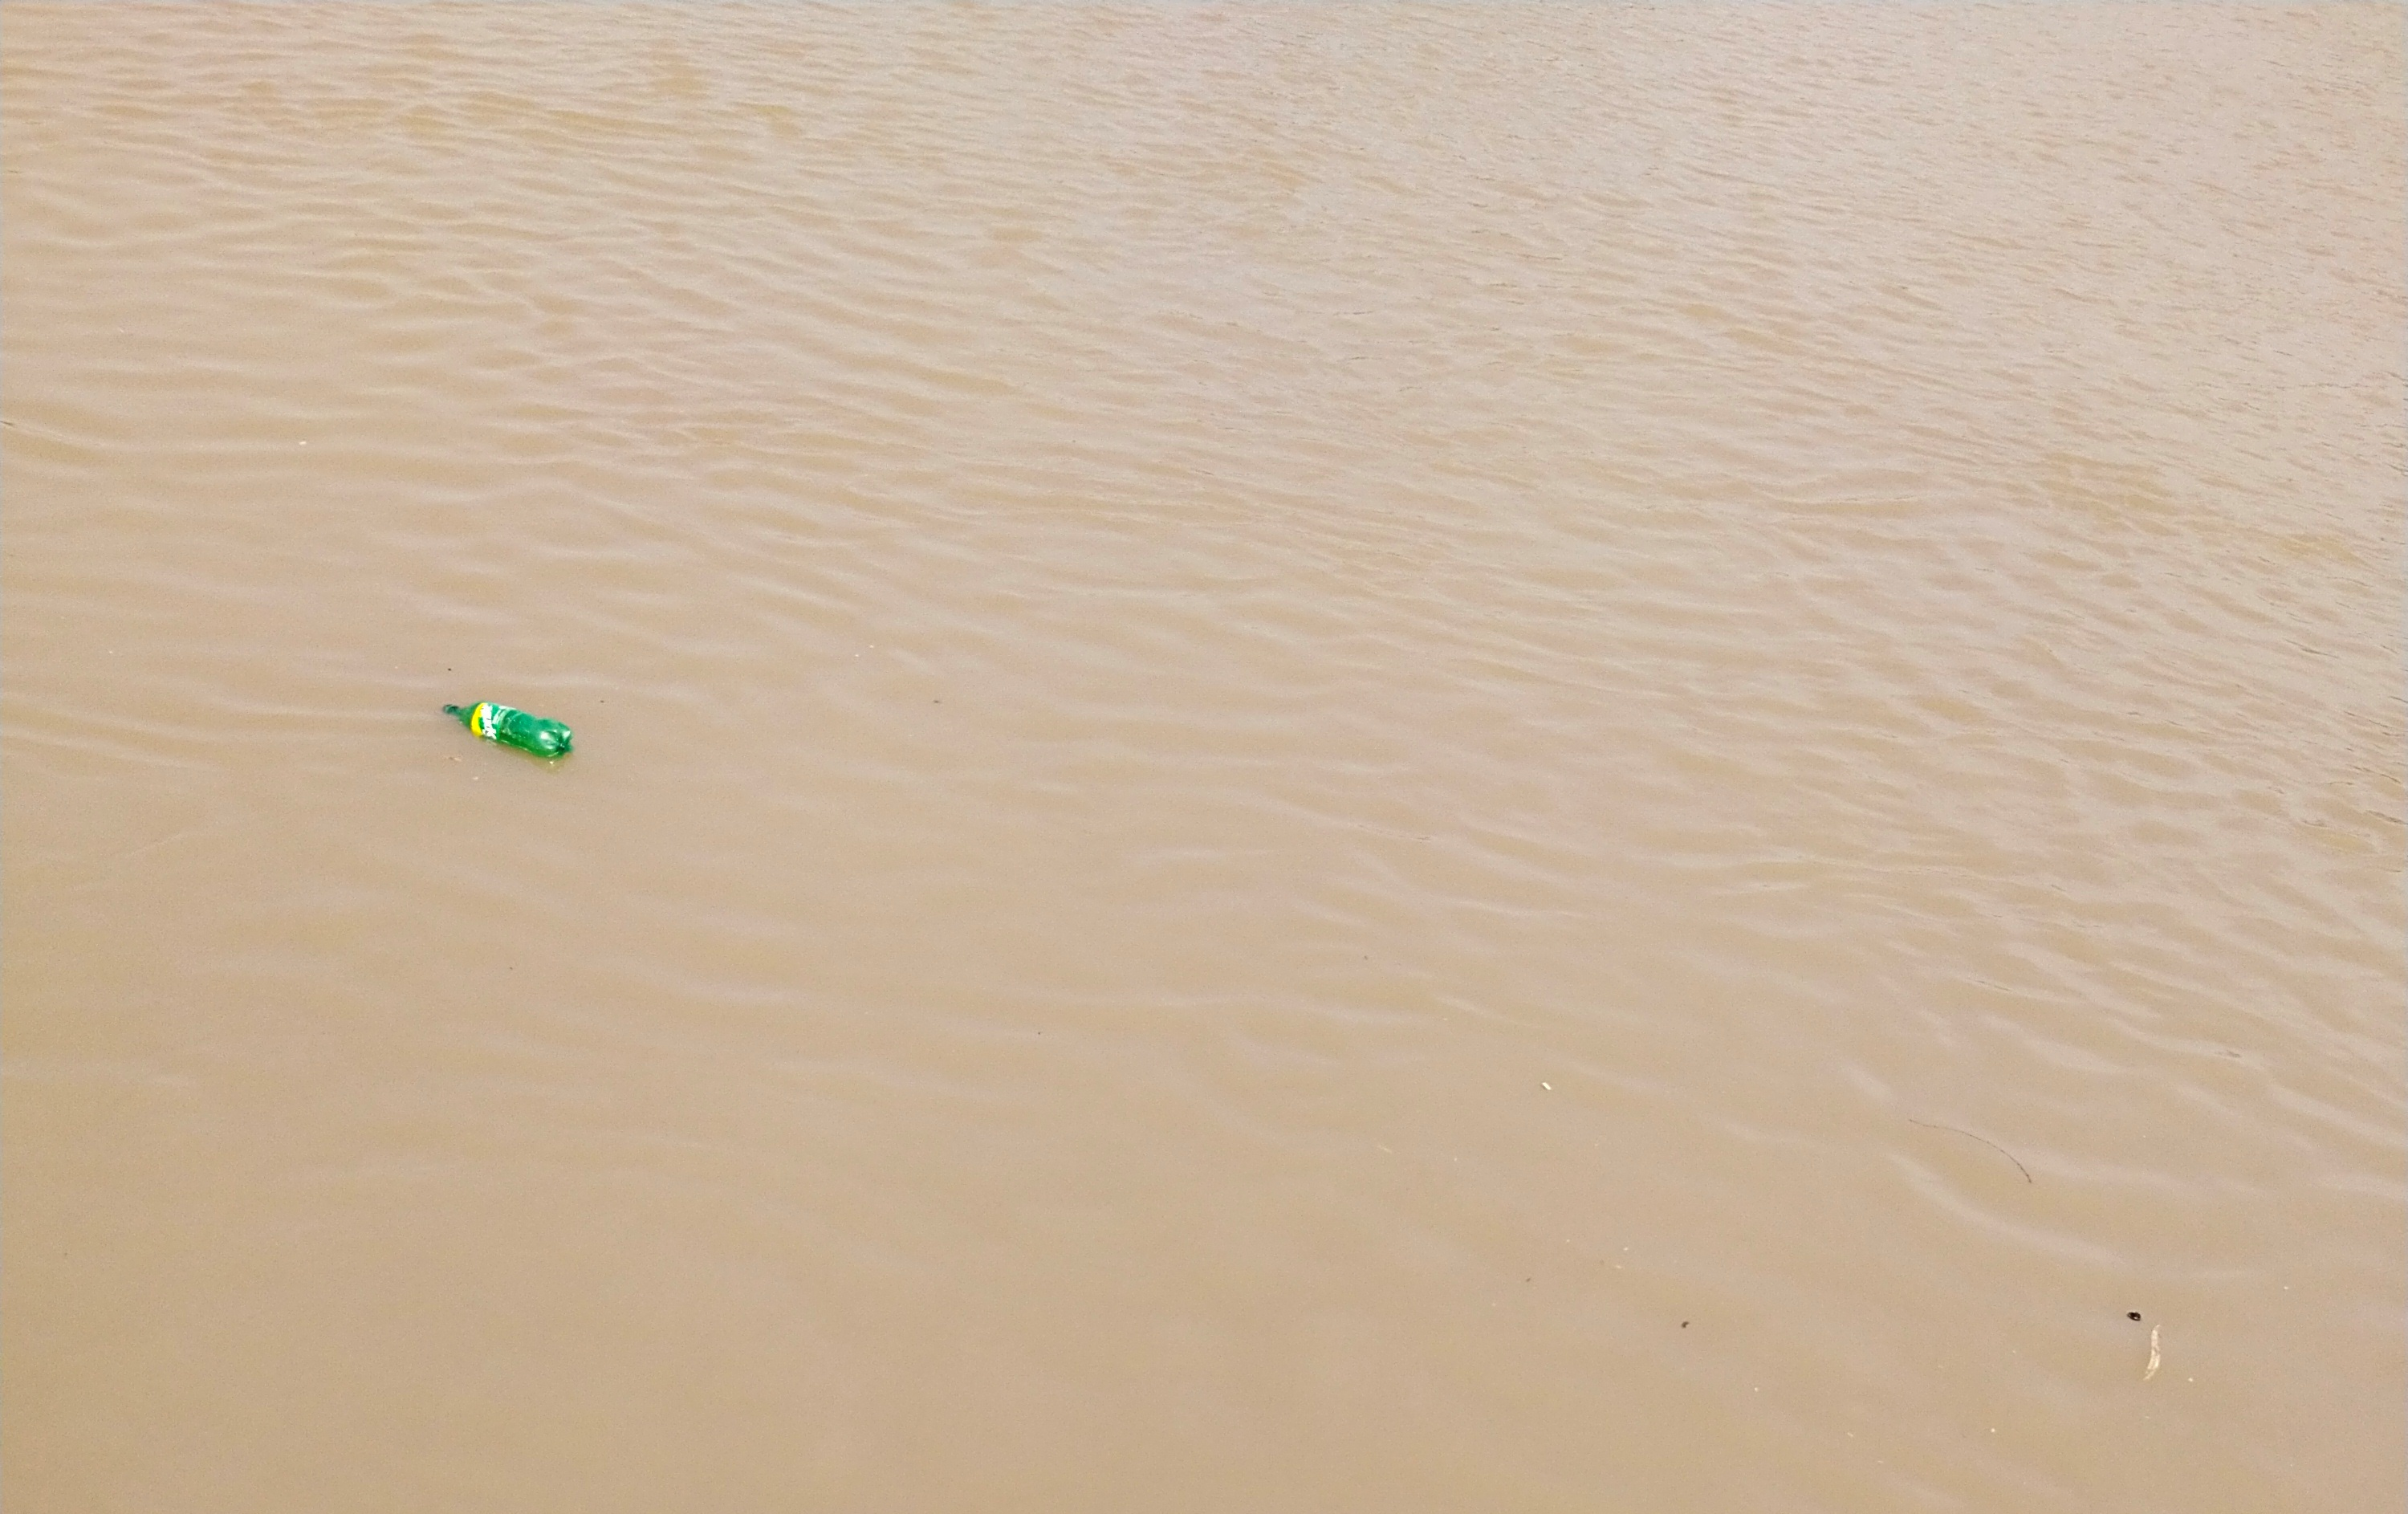Plastic Bottle: (443, 701, 574, 759)
